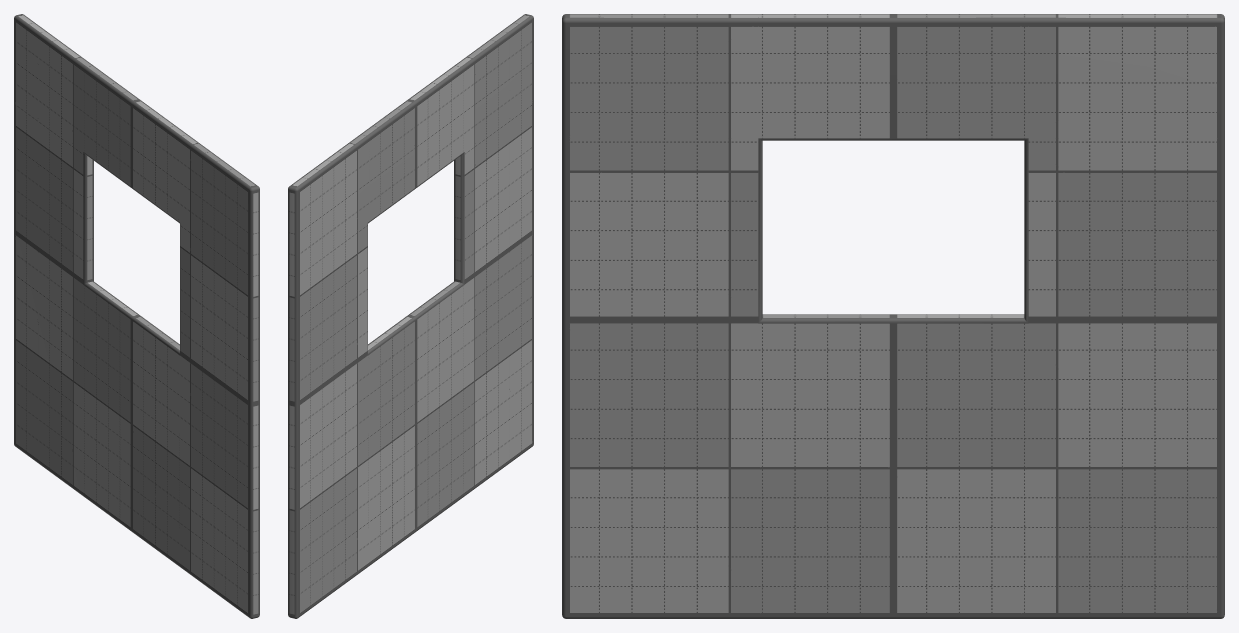
Rendered from Wall0x2x2Window.fbx.
The picture shows the model from 3 angles, left to right: view 1: azimuth 30°, elevation 25°; view 2: azimuth 150°, elevation 25°; view 3: azimuth 270°, elevation 25°; orthographic projection. The views are drawn at different scales.
Parts seen in each view (by area): view 1: Wall0x2x2Window; view 2: Wall0x2x2Window; view 3: Wall0x2x2Window.
Boxes of the visible parts, x1,y1,x2,y2 form: Wall0x2x2Window: [14, 14, 259, 618]; Wall0x2x2Window: [288, 14, 533, 618]; Wall0x2x2Window: [562, 14, 1224, 618].
Bounding box in the file's own units: 5 × 202 × 202.
